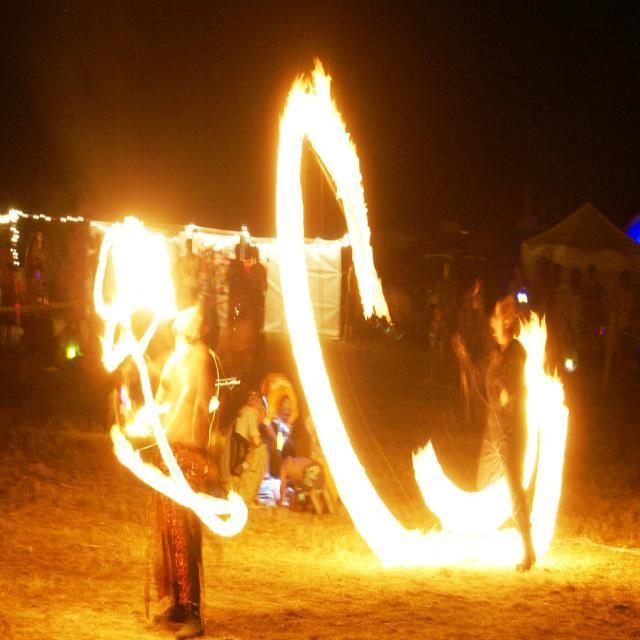Fire: (106, 228, 174, 350), (426, 491, 519, 569), (530, 377, 566, 542), (296, 321, 332, 432), (171, 489, 249, 534), (296, 68, 324, 172), (360, 481, 386, 544), (352, 196, 371, 282)
